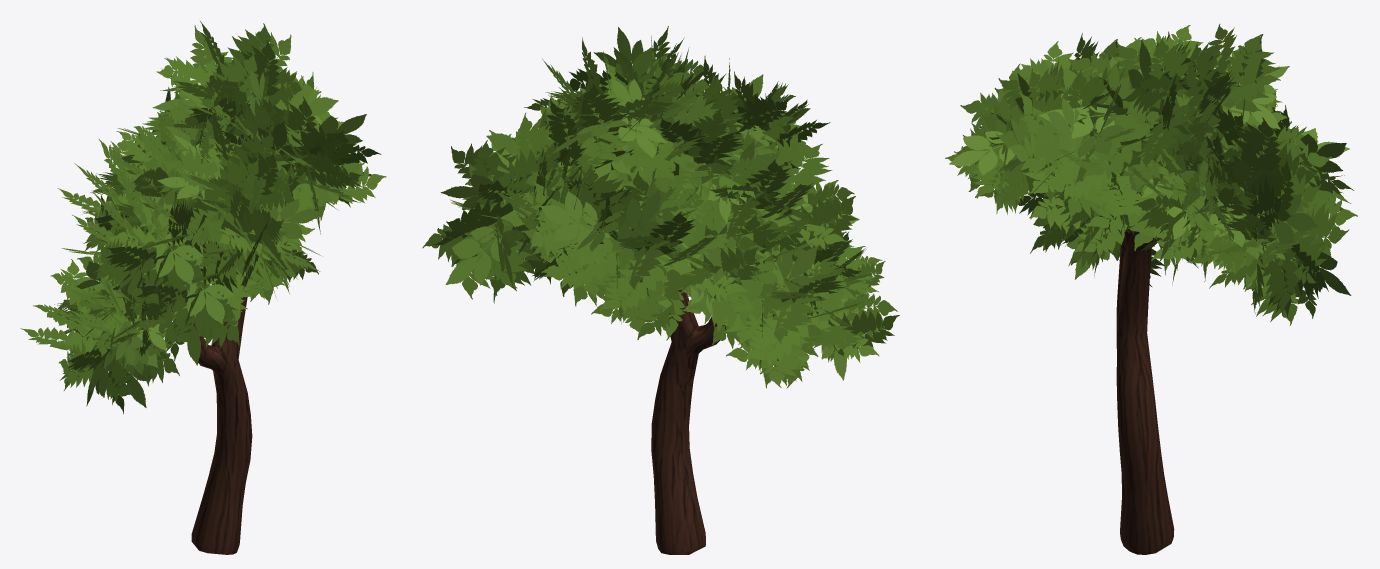
Rendered from SM_Common_Tree_11.glb.
3 renders of one model, left to right at view 1: azimuth 30°, elevation 25°; view 2: azimuth 150°, elevation 25°; view 3: azimuth 270°, elevation 25°, orthographic. The views are drawn at different scales.
Visible parts, largest first — view 1: SM_Common_Tree_11; view 2: SM_Common_Tree_11; view 3: SM_Common_Tree_11.
Part boxes in pixels (<box>): SM_Common_Tree_11: <box>20,21,386,554</box>; SM_Common_Tree_11: <box>422,26,899,554</box>; SM_Common_Tree_11: <box>945,24,1357,554</box>.
Bounding box in the file's own units: 6.62 × 8.53 × 6.
2 materials, 2 textured.
